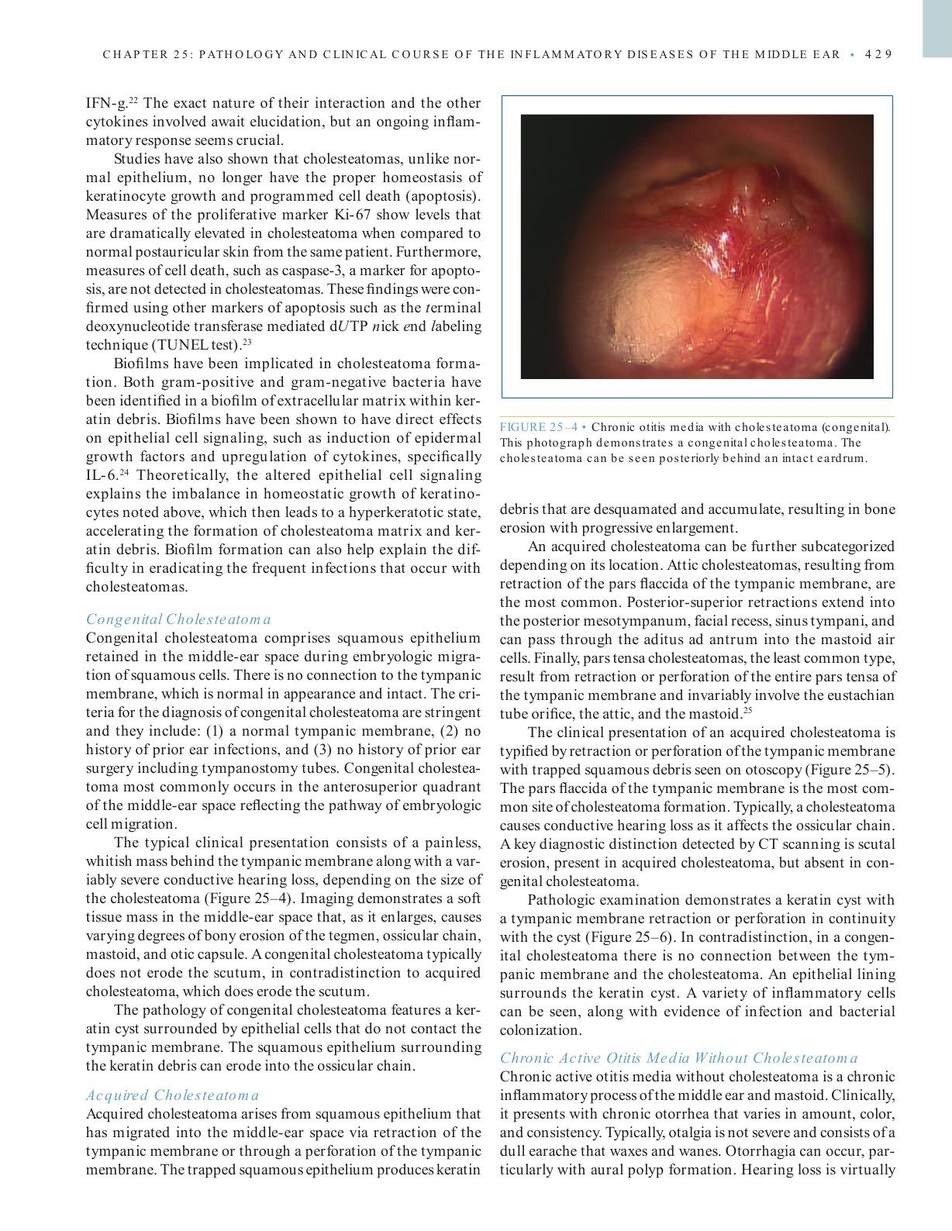caption: (498, 419, 892, 467)
header: (101, 46, 841, 62)
image: (520, 113, 874, 380)
sub-section-heading: (500, 1050, 859, 1065), (84, 1087, 260, 1104), (84, 612, 272, 627)
text: (496, 500, 898, 1039), (82, 92, 485, 597), (83, 630, 483, 1075), (498, 1068, 897, 1180), (84, 1105, 483, 1180)
